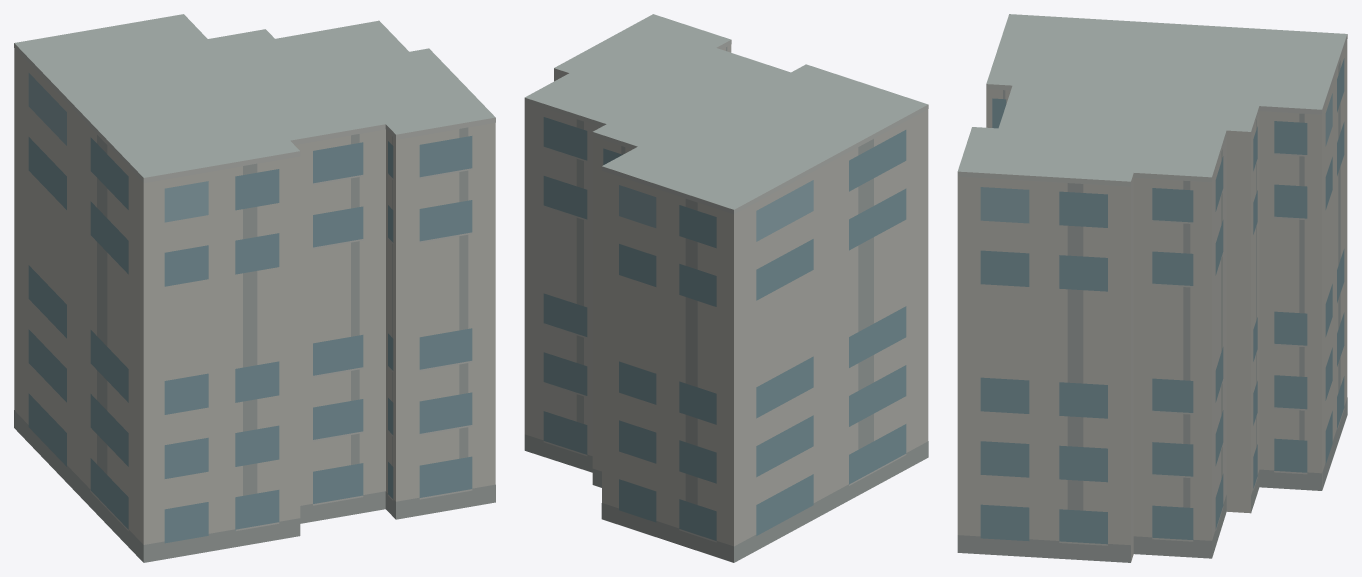
Rendered from survey-upis-32815770.glb.
3 views of the same model, side by side, from view 1: azimuth 30°, elevation 25°; view 2: azimuth 150°, elevation 25°; view 3: azimuth 270°, elevation 25° (orthographic). The views are drawn at different scales.
Parts seen in each view (by area): view 1: survey-upis-32815770.tmp; view 2: survey-upis-32815770.tmp; view 3: survey-upis-32815770.tmp.
Boxes of the visible parts, left/top/right/bottom form: survey-upis-32815770.tmp: left=14, top=14, right=495, bottom=562; survey-upis-32815770.tmp: left=524, top=14, right=928, bottom=562; survey-upis-32815770.tmp: left=957, top=14, right=1347, bottom=562.
Size of the model in its own units: 17.27 by 18.3 by 16.97.
